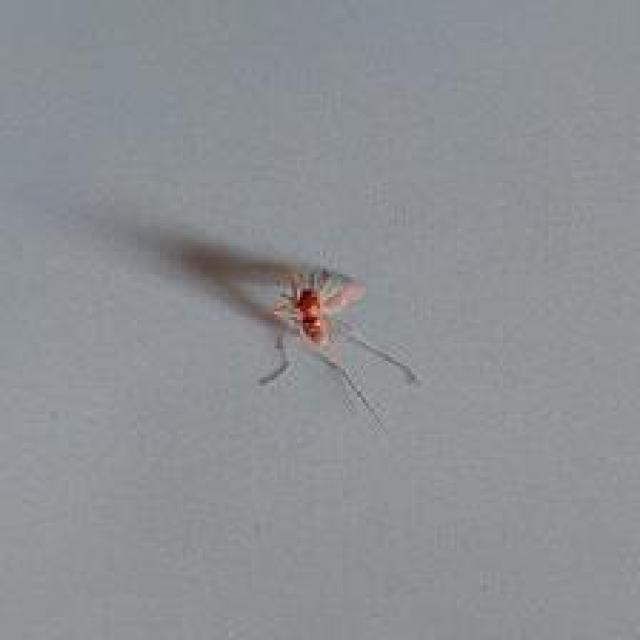Culex: (173, 237, 421, 437)
